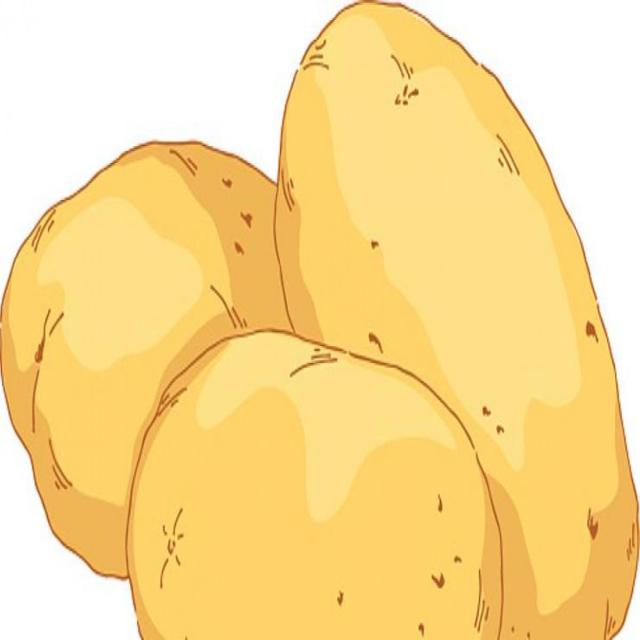papa: (273, 5, 640, 640)
